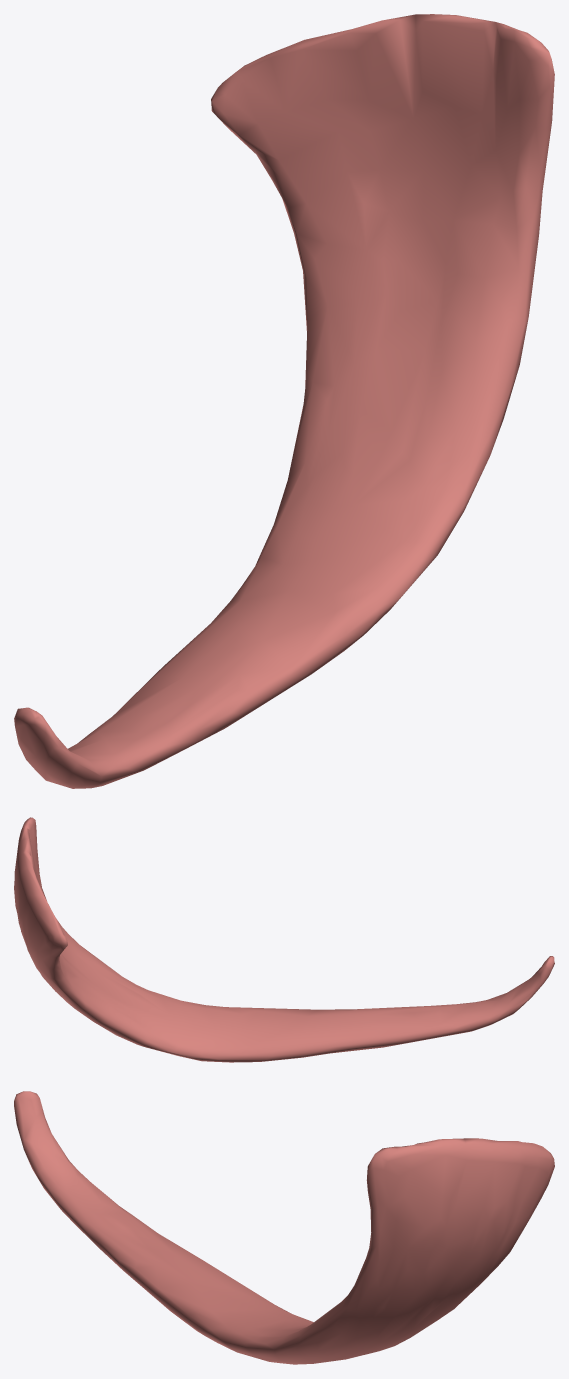
3 views of the same model, one above another, from view 1: azimuth 30°, elevation 25°; view 2: azimuth 150°, elevation 25°; view 3: azimuth 270°, elevation 25° (orthographic). The views are drawn at different scales.
Parts seen in each view (by area): view 1: ZA_45b1899b5e6c208c; view 2: ZA_45b1899b5e6c208c; view 3: ZA_45b1899b5e6c208c.
Boxes of the visible parts, left/top/right/bottom form: ZA_45b1899b5e6c208c: left=14, top=14, right=554, bottom=788; ZA_45b1899b5e6c208c: left=14, top=817, right=554, bottom=1062; ZA_45b1899b5e6c208c: left=14, top=1091, right=554, bottom=1364.
Bounding box in the file's own units: 0.0294 × 0.0162 × 0.026.
